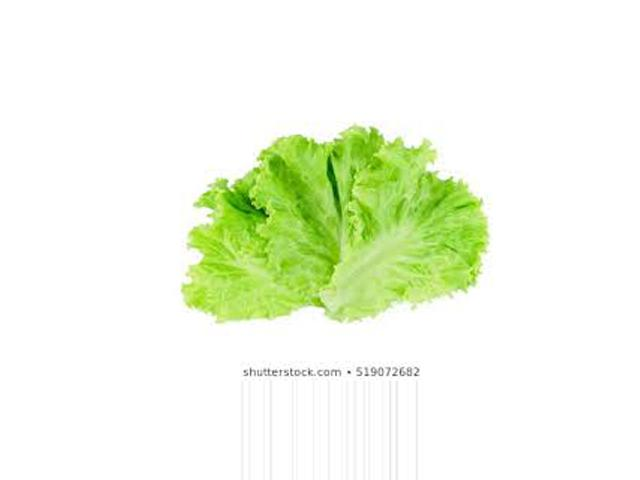lettuce: (178, 122, 494, 361)
